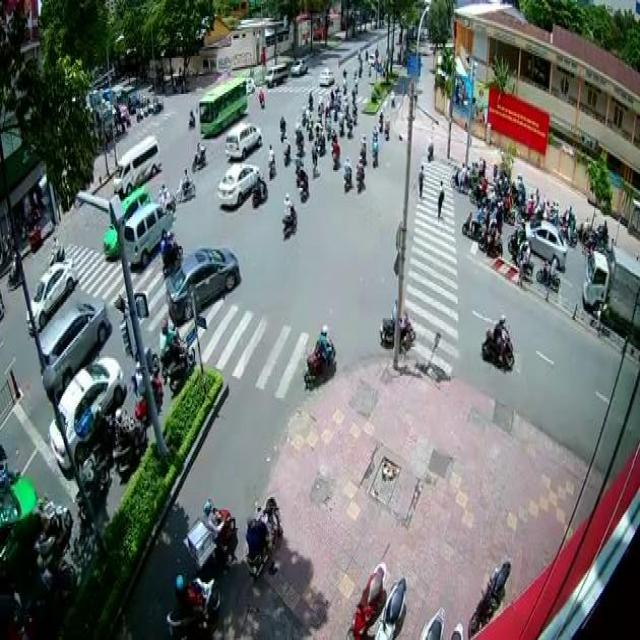bus: (197, 76, 246, 136)
car: (49, 354, 124, 466), (164, 244, 240, 325), (41, 300, 108, 389), (24, 258, 76, 334), (103, 186, 149, 257), (215, 161, 260, 208), (523, 220, 566, 268), (225, 123, 263, 159)
motorcycle: (303, 324, 337, 388), (481, 313, 515, 372), (160, 228, 182, 264), (280, 192, 297, 238), (174, 166, 195, 202), (250, 168, 267, 210), (298, 161, 308, 202), (354, 154, 364, 194), (342, 156, 352, 192)
truck: (581, 242, 640, 329), (123, 199, 169, 266), (112, 136, 162, 193)
